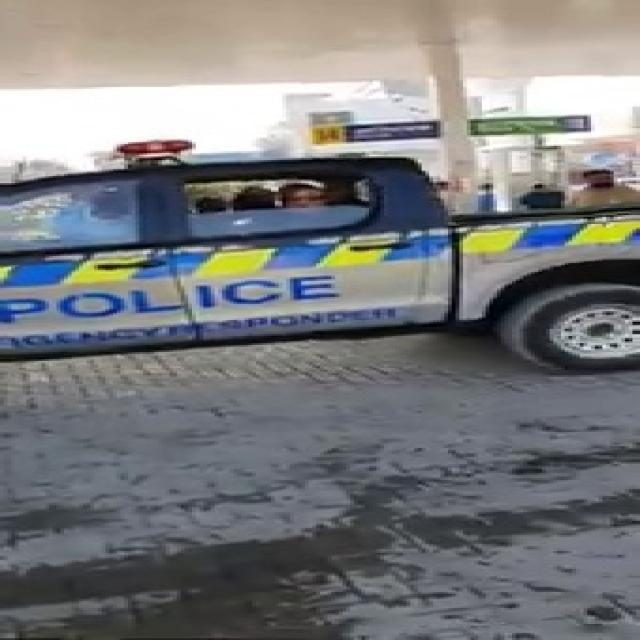police: (14, 159, 636, 374)
